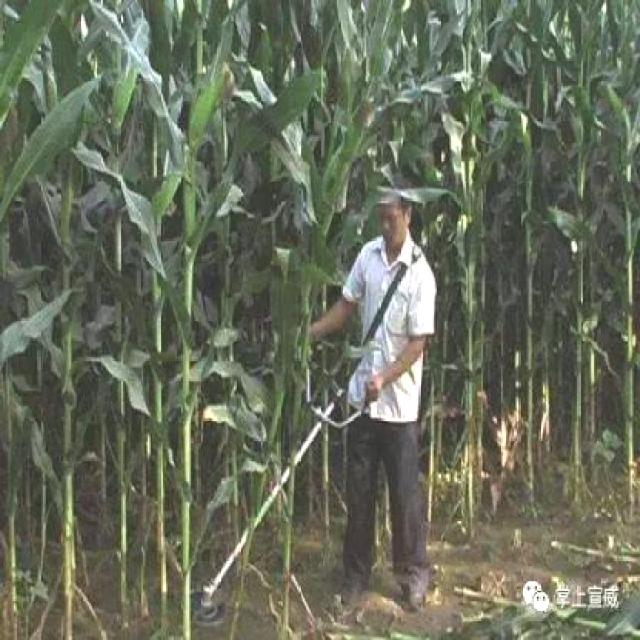face_nomask: (379, 206, 403, 252)
hand_noglove: (366, 372, 383, 403)
head_nohelmet: (375, 186, 411, 219)
person: (318, 193, 437, 562)
